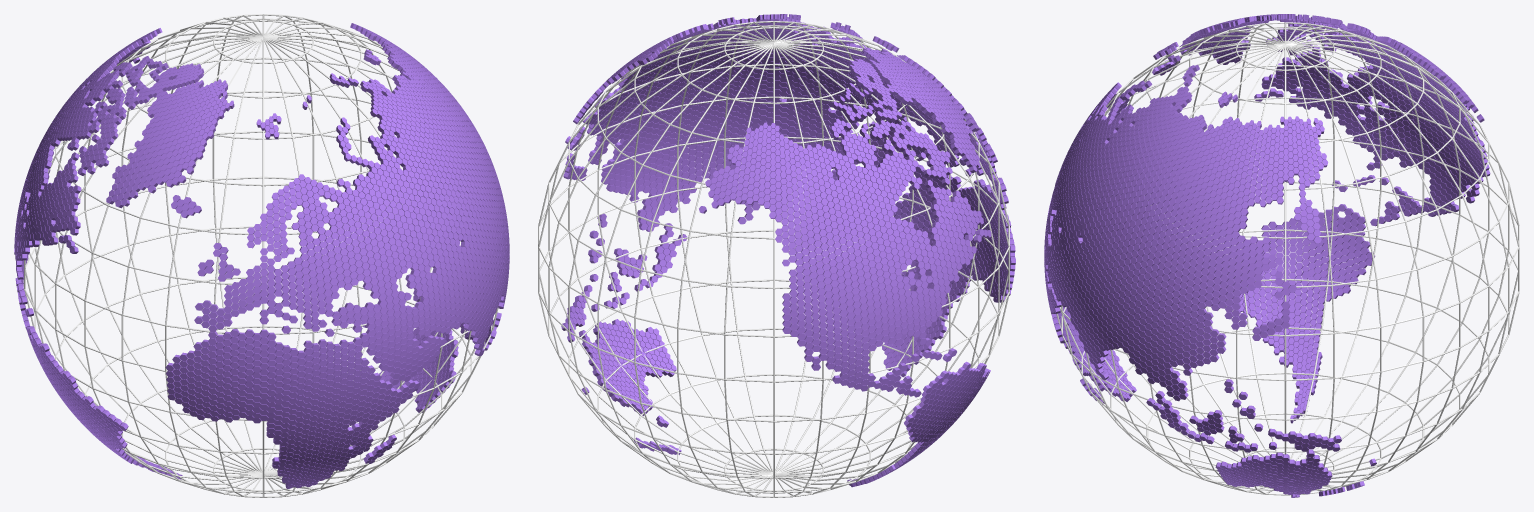
The picture shows the model from 3 angles, left to right: view 1: azimuth 30°, elevation 25°; view 2: azimuth 150°, elevation 25°; view 3: azimuth 270°, elevation 25°; orthographic projection. The views are drawn at different scales.
Visible parts, largest first — view 1: Null.1, Sphere; view 2: Null.1, Sphere; view 3: Null.1, Sphere.
Boxes of the visible parts, bbox=[...] form: Null.1: bbox=[14, 23, 509, 488]; Sphere: bbox=[24, 14, 498, 497]; Null.1: bbox=[561, 14, 1015, 487]; Sphere: bbox=[538, 21, 1009, 497]; Null.1: bbox=[1044, 14, 1490, 497]; Sphere: bbox=[1056, 22, 1519, 495].
Size of what is drawn, in the model's own units: 3010 by 2990 by 3001.
